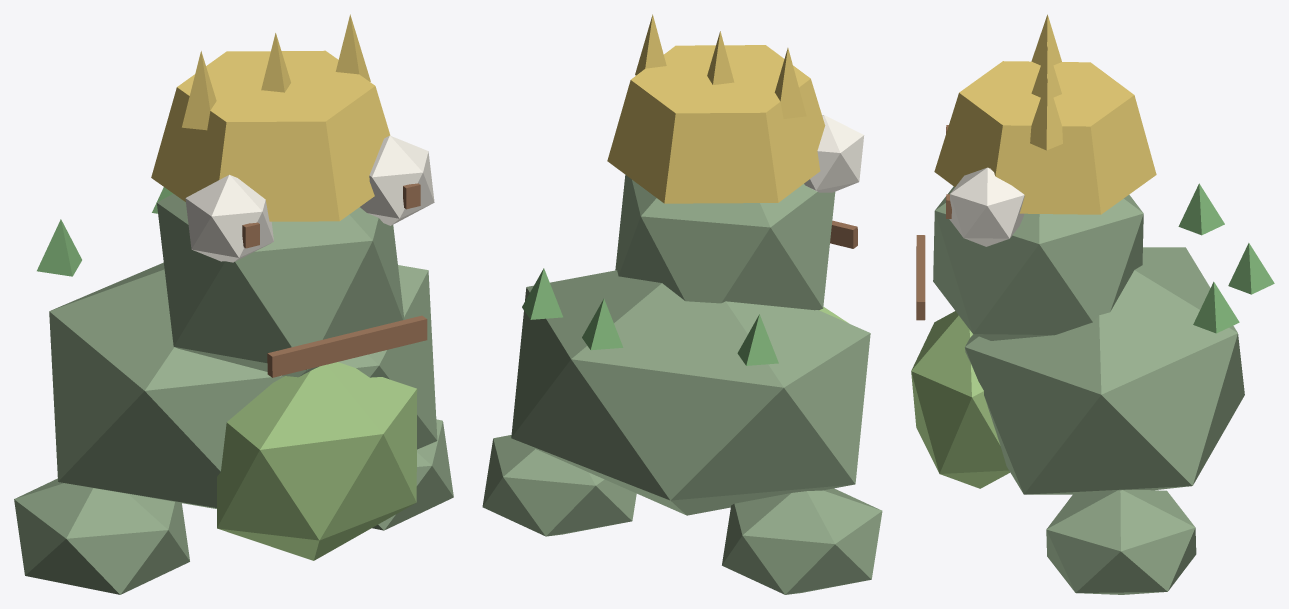
The model's file is npcpose_toad_king_attack_11.glb.
3 views of the same model, side by side, from view 1: azimuth 30°, elevation 25°; view 2: azimuth 150°, elevation 25°; view 3: azimuth 270°, elevation 25° (orthographic). The views are drawn at different scales.
Parts seen in each view (by area): view 1: npcpose; view 2: npcpose; view 3: npcpose.
Boxes of the visible parts, <box> form: npcpose: <box>14,14,453,594</box>; npcpose: <box>482,14,882,594</box>; npcpose: <box>911,14,1274,594</box>.
Bounding box in the file's own units: 1.75 × 2.23 × 1.49.
